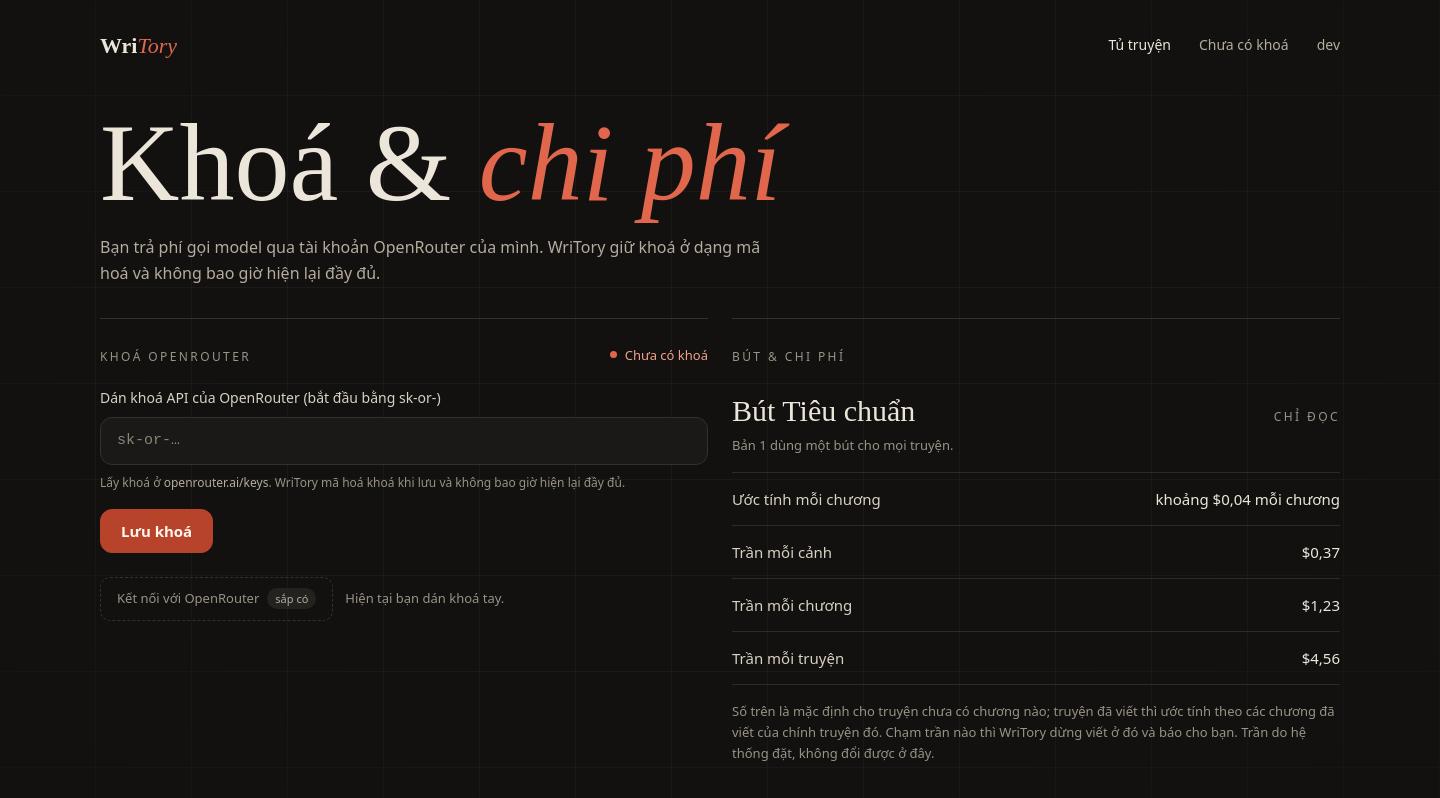
Test: key chỉ hiện last4 › dán key: chỉ thấy 4 ký tự cuối, ô nhập bị xoá, không lưu trình duyệt, không log
The image size is (1440, 798).
Type "sk-or-v1-abcdef0123456789zz9q" into the password field labelled "Dán khoá API của OpenRouter (bắt đầu bằng sk-or-)" at (404, 441), box [100, 417, 708, 465]
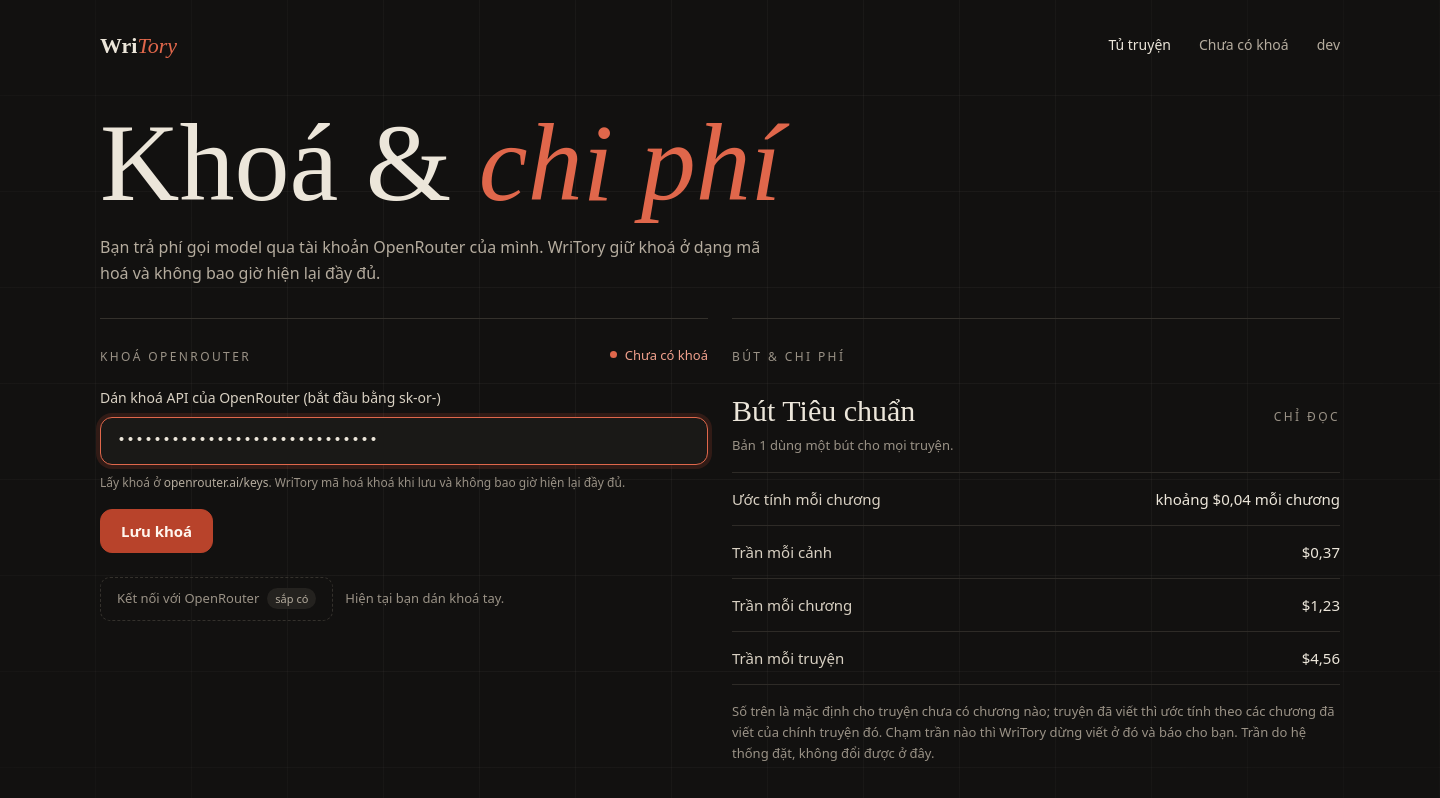
Click the button "Lưu khoá" at (157, 531), box [100, 509, 213, 553]
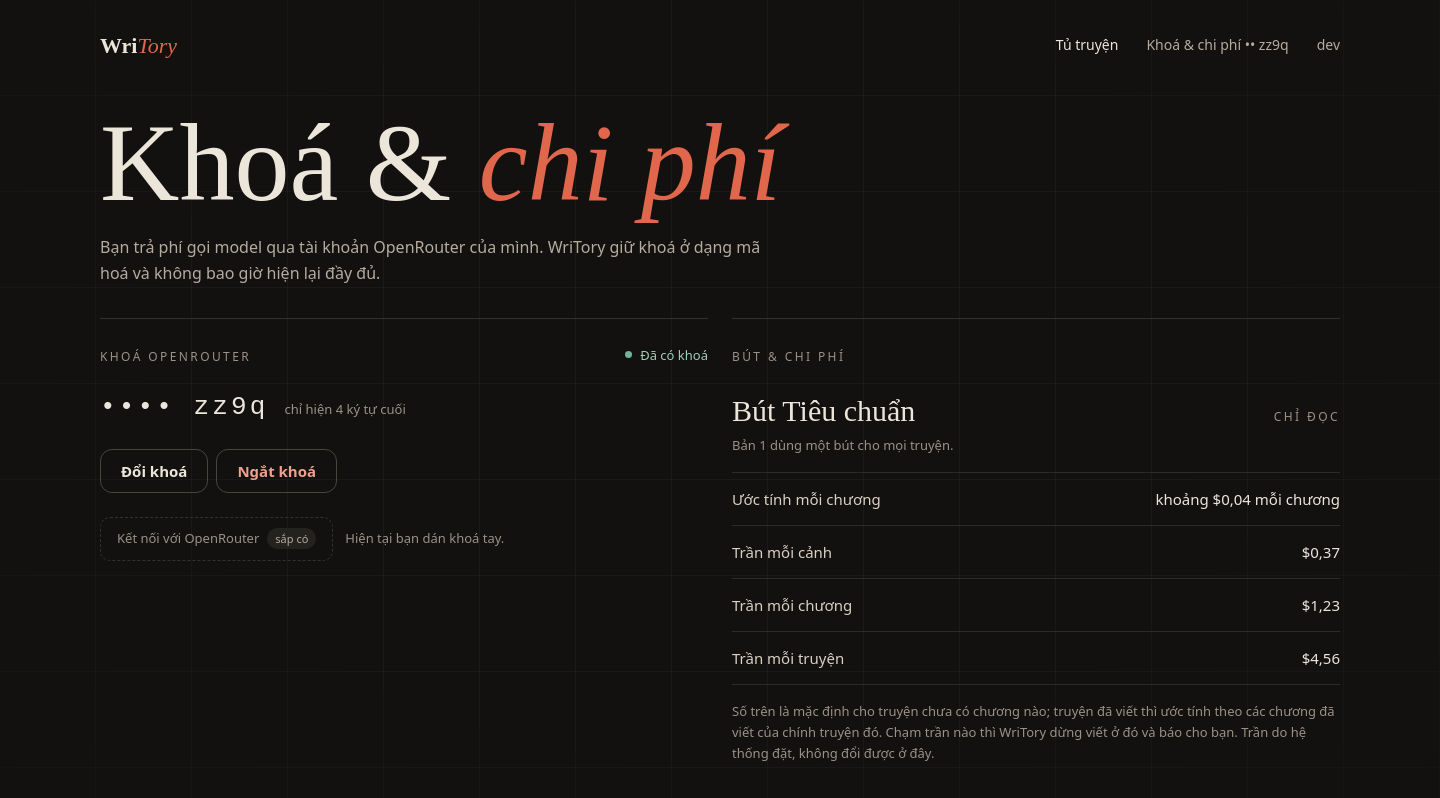
Now the text "•••• zz9q" is shown, box [100, 387, 268, 429]
